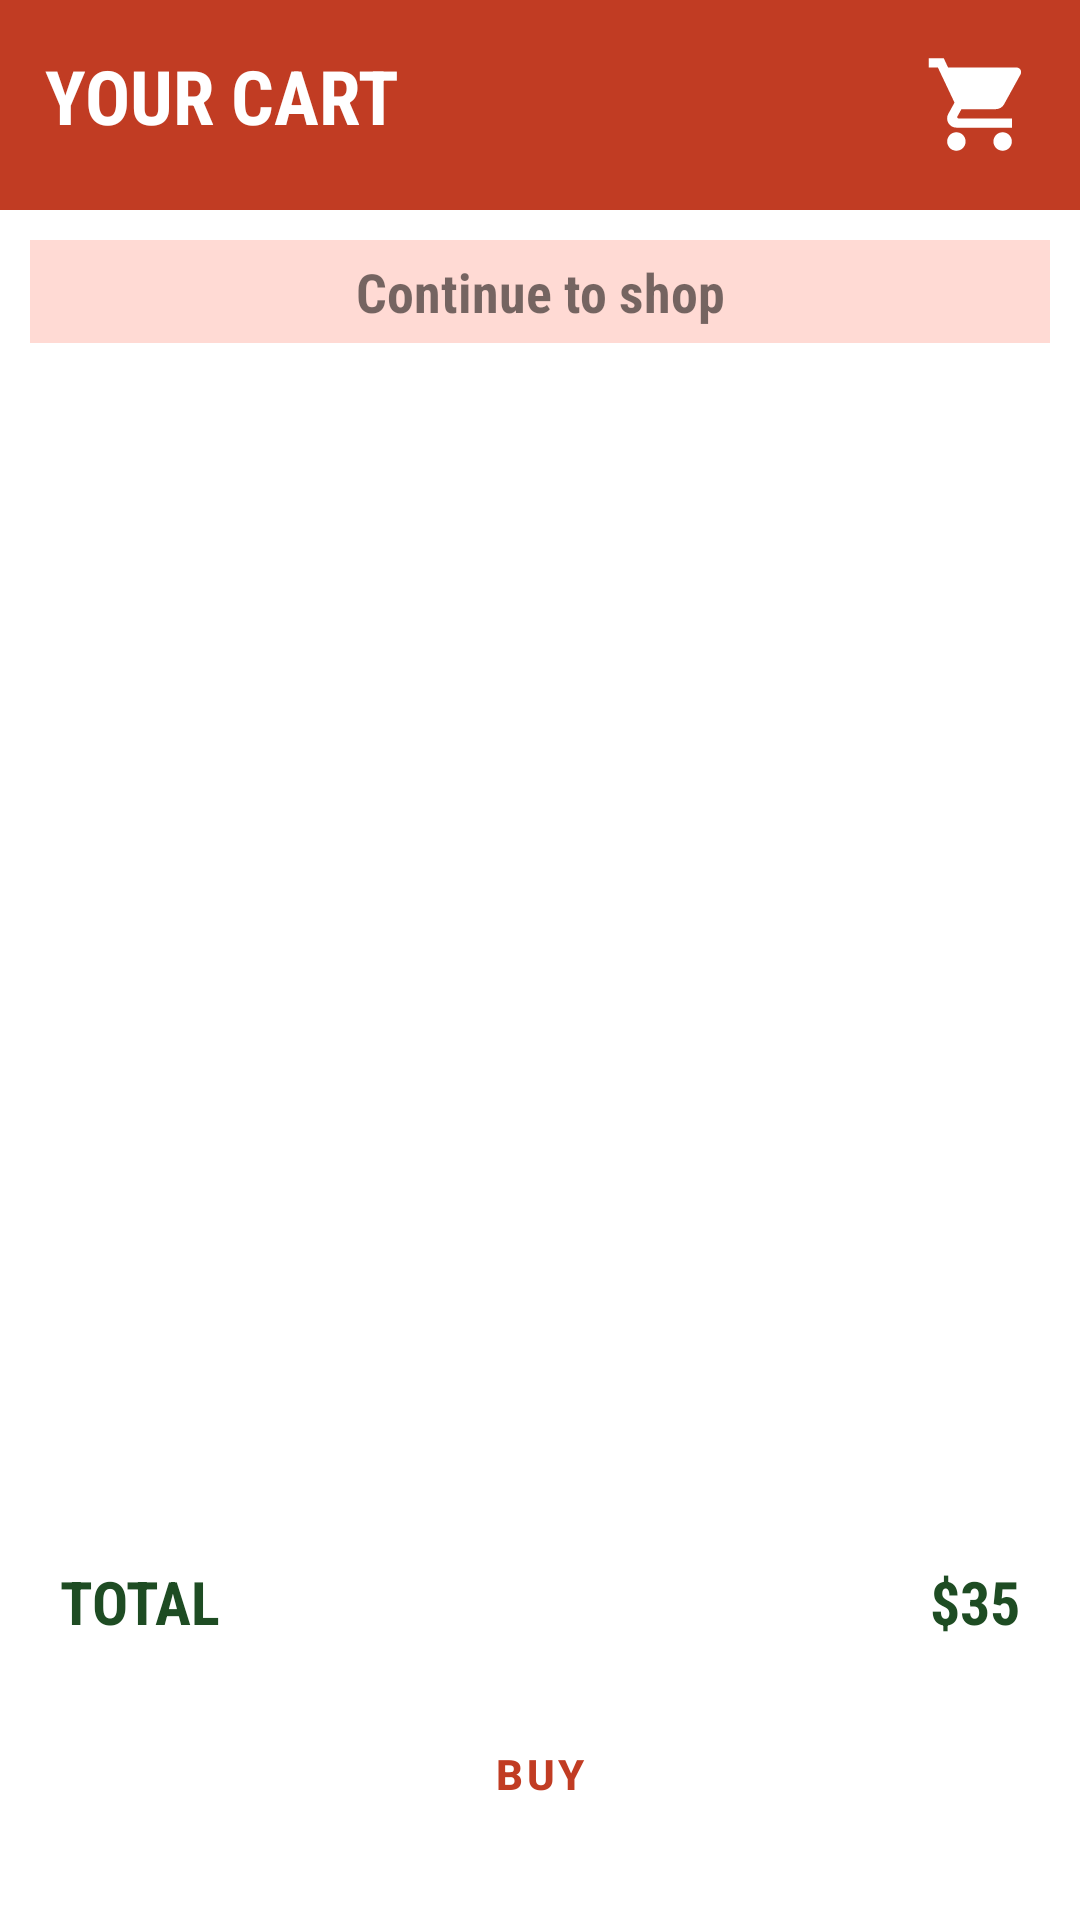

Icons on this 1080px x 1920px Android screen, each with its box as (x1, y1, x2, y2):
carro: (928, 58, 1021, 151)
